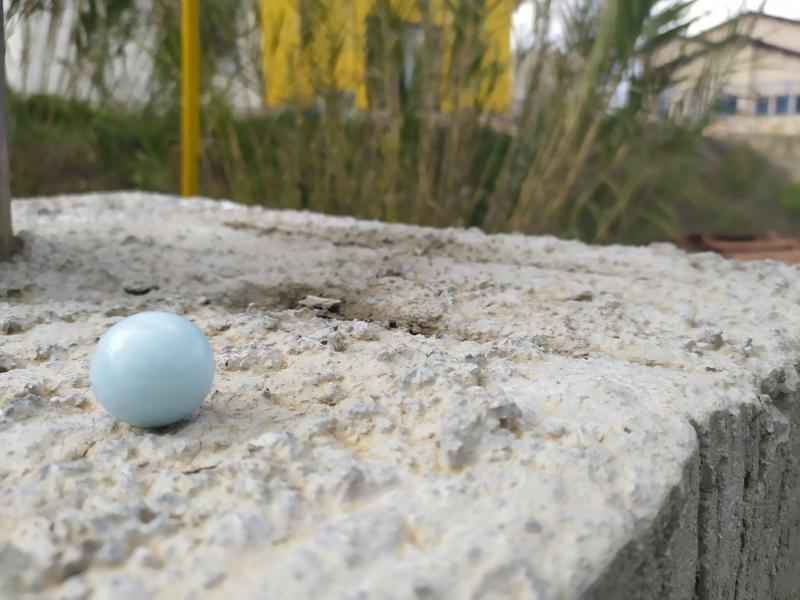Warning: (86, 307, 219, 432)
